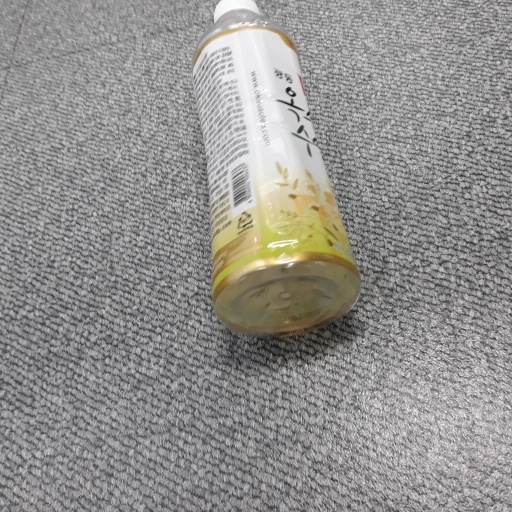Plastic_0: (189, 1, 363, 340)
